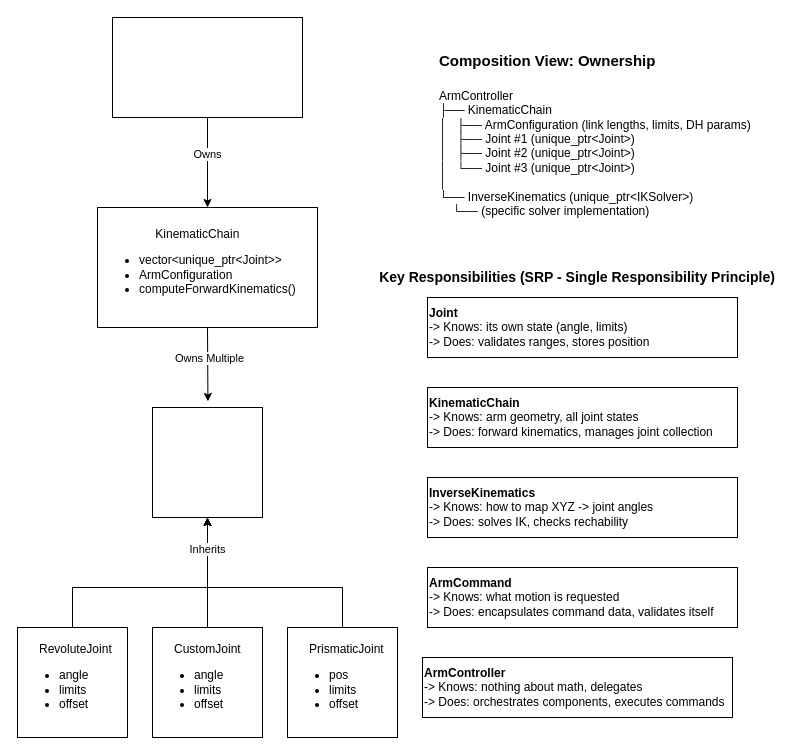
This 795x755 diagram has some shape labels left out. The centre of each missing label's shape, as x and y in pixels:
ArmController Owns KinematicChain Owns InvKin solver Executes commands: the point at 207,67
Joint (Abstract) getAngle() setAngle() getLimits(): the point at 207,462
